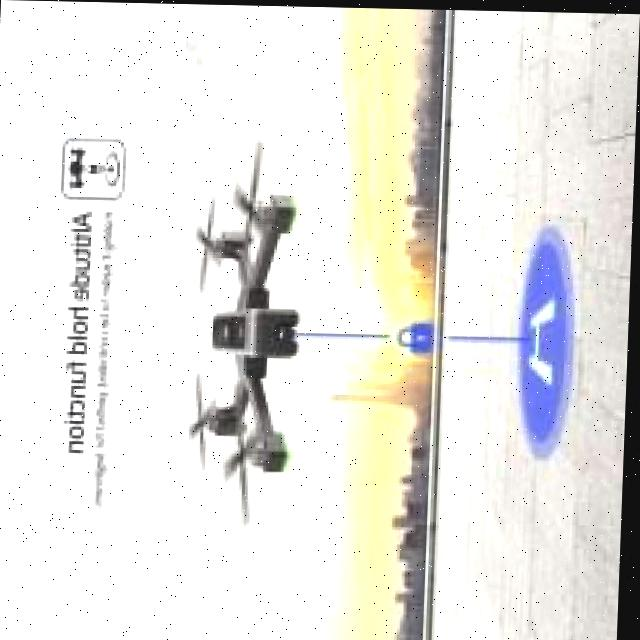drone: (171, 136, 331, 517)
